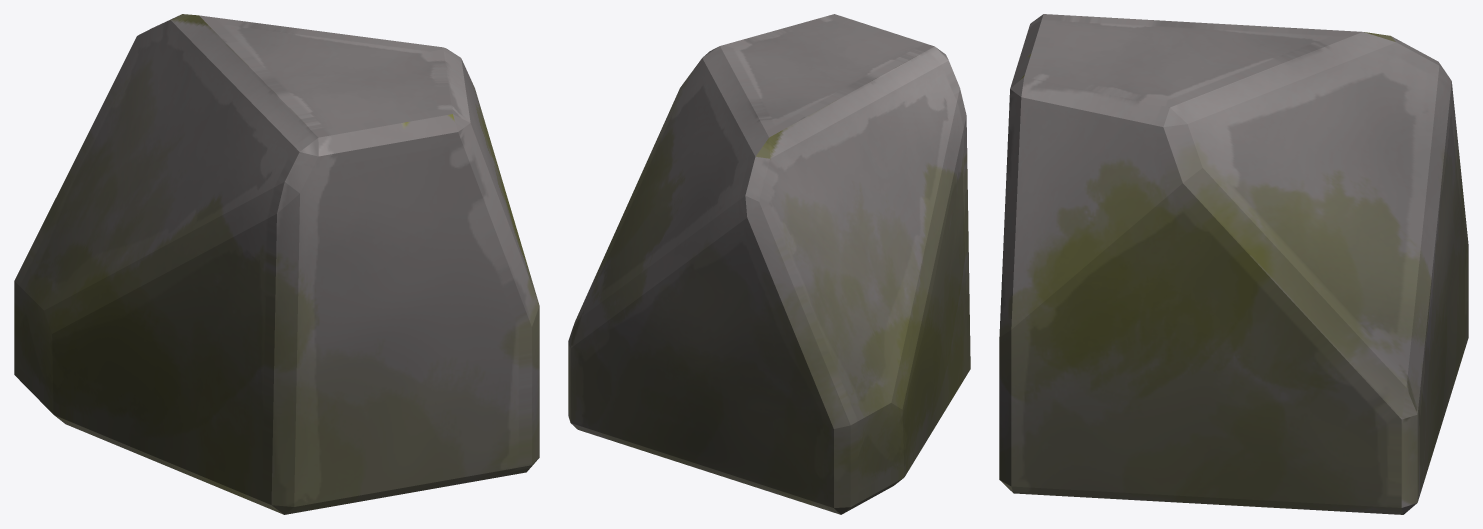
The model's file is Stone Mini.fbx.
The picture shows the model from 3 angles, left to right: view 1: azimuth 30°, elevation 25°; view 2: azimuth 150°, elevation 25°; view 3: azimuth 270°, elevation 25°; orthographic projection. The views are drawn at different scales.
Visible parts, largest first — view 1: Cube.001; view 2: Cube.001; view 3: Cube.001.
Boxes of the visible parts, x1,y1,x2,y2 form: Cube.001: (14,14,539,514); Cube.001: (568,14,970,514); Cube.001: (999,14,1468,514).
Size of the model in its own units: 52.17 by 50.96 by 56.68.
